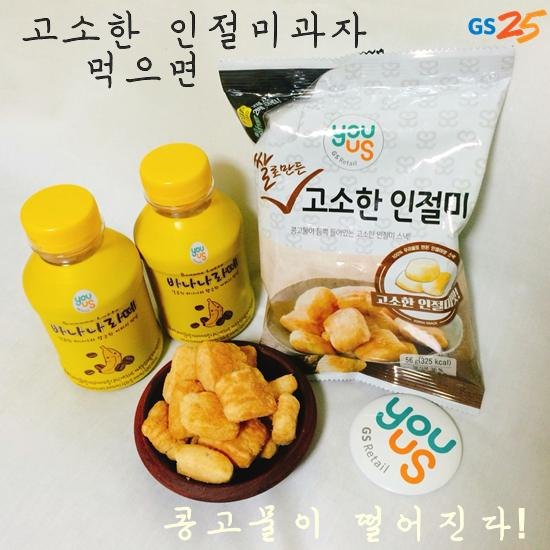snack: (215, 42, 517, 415)
